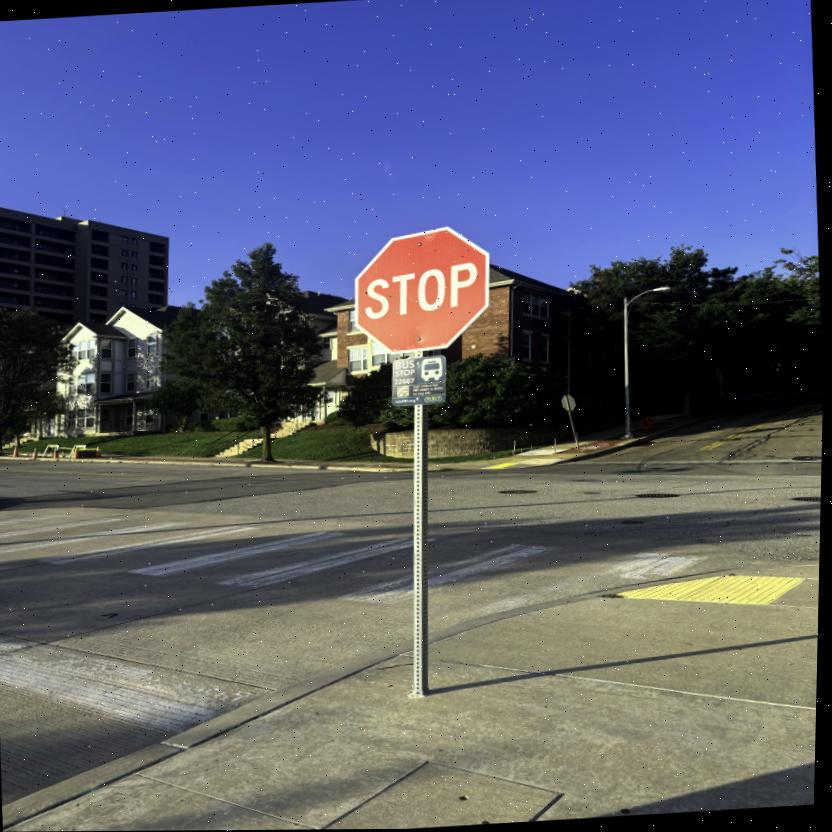Pole: (401, 404, 456, 695)
Sign: (353, 228, 495, 355)
